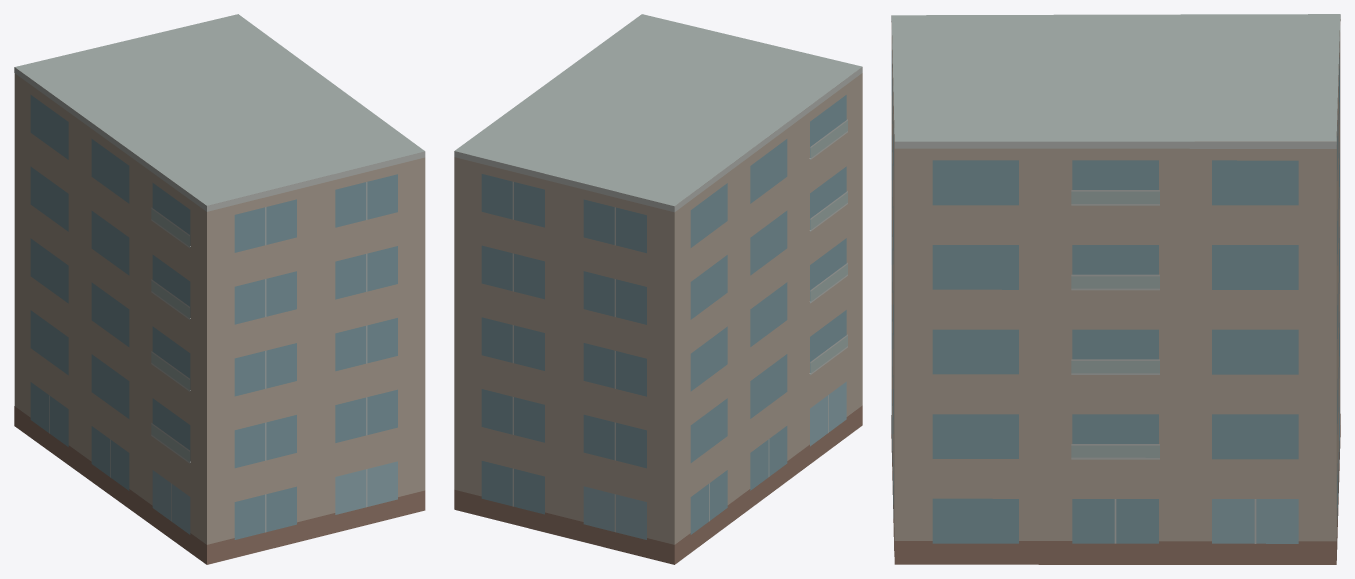
Rendered from survey-upis-32891598.glb.
3 renders of one model, left to right at view 1: azimuth 30°, elevation 25°; view 2: azimuth 150°, elevation 25°; view 3: azimuth 270°, elevation 25°, orthographic. The views are drawn at different scales.
Parts seen in each view (by area): view 1: survey-upis-32891598.tmp; view 2: survey-upis-32891598.tmp; view 3: survey-upis-32891598.tmp.
Boxes of the visible parts, x1,y1,x2,y2 form: survey-upis-32891598.tmp: (14,14,425,564); survey-upis-32891598.tmp: (454,14,862,564); survey-upis-32891598.tmp: (891,14,1340,564).
Bounding box in the file's own units: 9.43 × 14.5 × 13.95.
